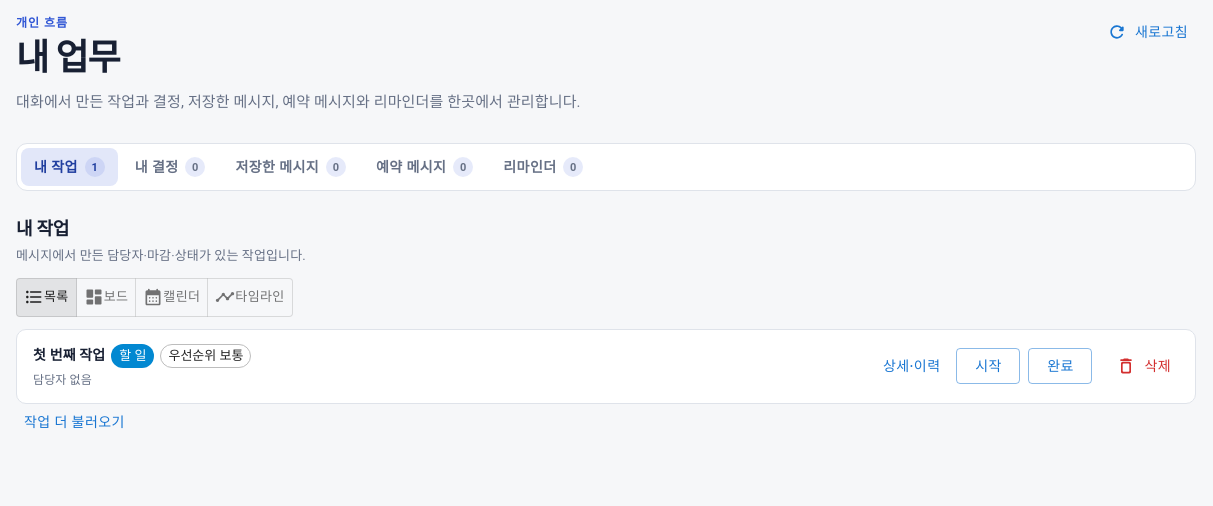
Test: MyWorkPage work item pagination › loads tasks and decisions independently and follows the task cursor
What coordinates should you click on to do the following:
click the button "작업 더 불러오기"
I would click on:
 (74, 422)
Its box is left=16, top=404, right=133, bottom=440.
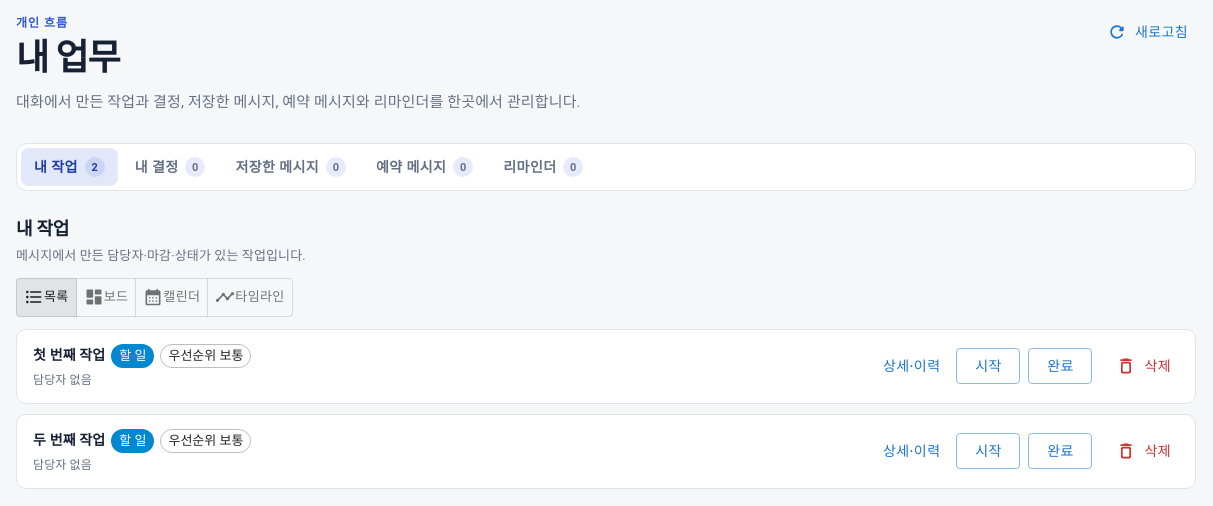
Now the text "두 번째 작업" is shown, box left=33, top=431, right=105, bottom=450
